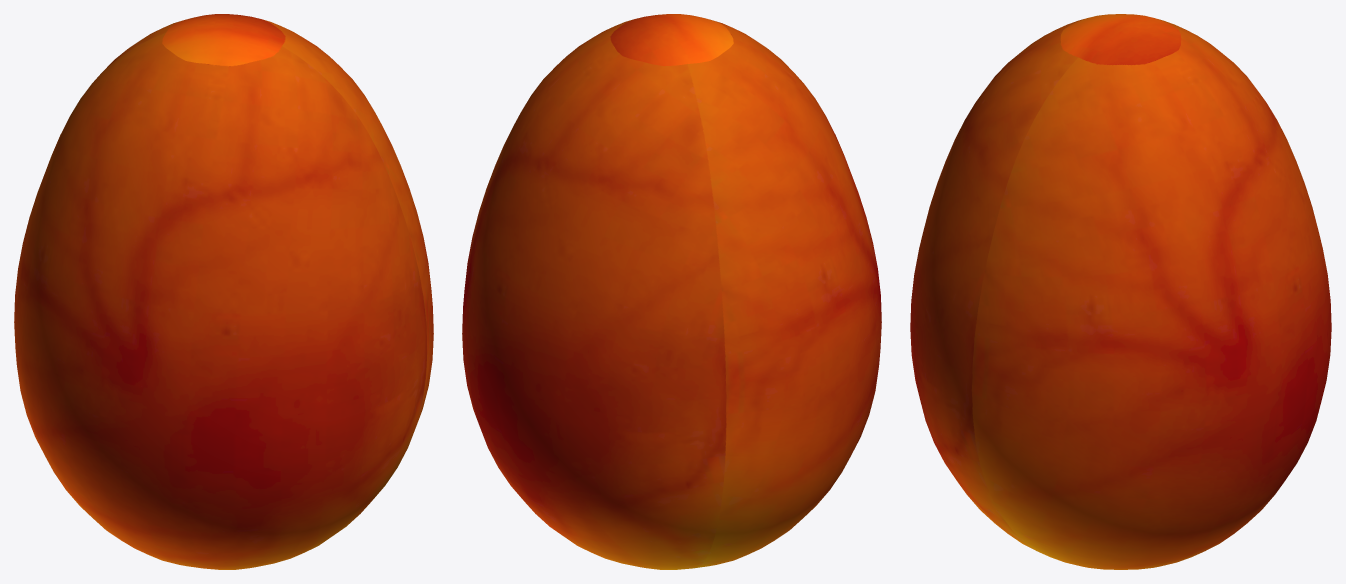
The model's file is goodEgg.glb.
3 views of the same model, side by side, from view 1: azimuth 30°, elevation 25°; view 2: azimuth 150°, elevation 25°; view 3: azimuth 270°, elevation 25° (orthographic).
Visible parts, largest first — view 1: egg; view 2: egg; view 3: egg.
Part boxes in pixels (x1,y1,x2,y2): egg: (14,14,433,569); egg: (462,14,881,569); egg: (910,14,1331,569).
Size of the model in its own units: 0.00328 by 0.00451 by 0.00328.
Materials: 1 (1 with a texture image).
